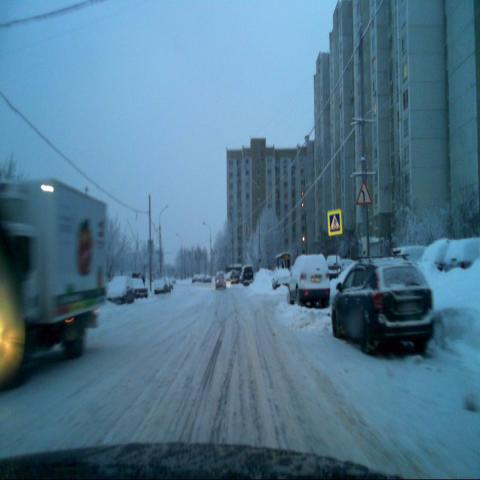1_11_1: (356, 179, 372, 205)
5_19_1: (326, 210, 344, 237)
